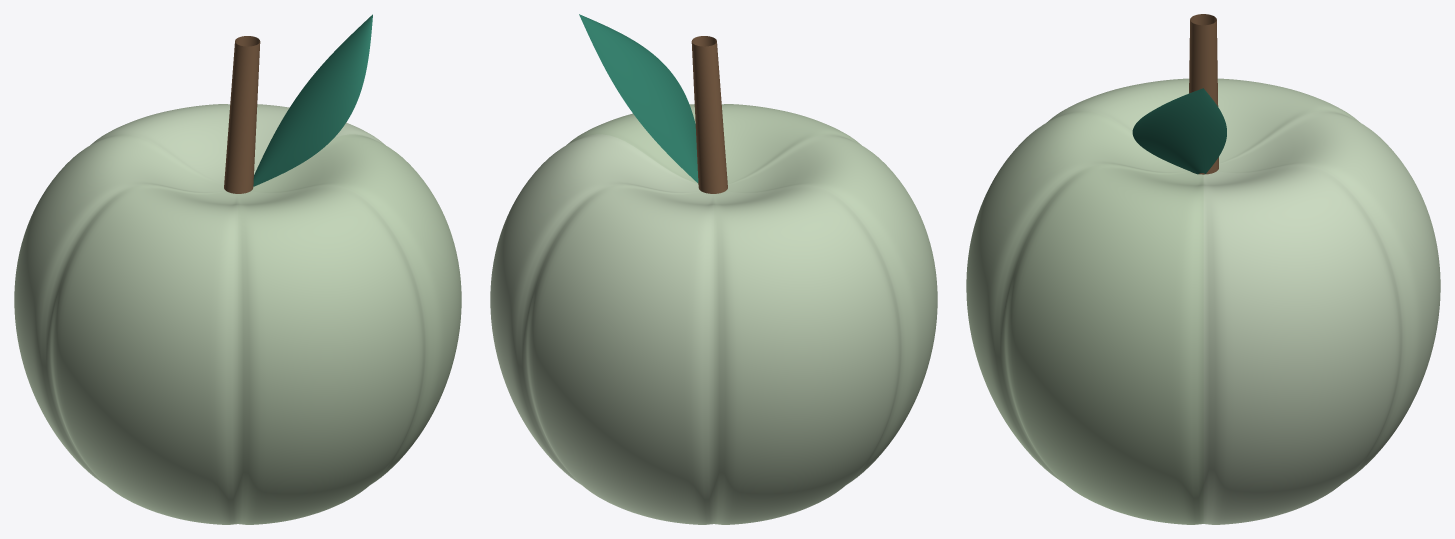
File: fabric_apple_6panels_v1.0.0.glb
3 renders of one model, left to right at view 1: azimuth 30°, elevation 25°; view 2: azimuth 150°, elevation 25°; view 3: azimuth 270°, elevation 25°, orthographic. The views are drawn at different scales.
Parts seen in each view (by area): view 1: Body_Panel_03, Body_Panel_02, Body_Panel_04, Body_Panel_01, Leaf, Body_Panel_05, Stem, Body_Panel_06; view 2: Body_Panel_04, Body_Panel_05, Body_Panel_03, Body_Panel_06, Leaf, Body_Panel_02, Stem, Body_Panel_01; view 3: Body_Panel_01, Body_Panel_06, Body_Panel_05, Body_Panel_02, Leaf, Body_Panel_04, Body_Panel_03, Stem.
Part boxes in pixels (x1=…): Body_Panel_03: x1=49, y1=184, x2=237, y2=524; Body_Panel_02: x1=238, y1=184, x2=426, y2=524; Body_Panel_04: x1=14, y1=134, x2=225, y2=484; Body_Panel_01: x1=251, y1=134, x2=461, y2=484; Leaf: x1=253, y1=14, x2=372, y2=186; Body_Panel_05: x1=91, y1=104, x2=230, y2=184; Stem: x1=224, y1=36, x2=260, y2=193; Body_Panel_06: x1=254, y1=104, x2=384, y2=174; Body_Panel_04: x1=714, y1=184, x2=902, y2=524; Body_Panel_05: x1=525, y1=184, x2=713, y2=524; Body_Panel_03: x1=726, y1=134, x2=937, y2=484; Body_Panel_06: x1=490, y1=134, x2=700, y2=484; Leaf: x1=579, y1=14, x2=698, y2=183; Body_Panel_02: x1=721, y1=104, x2=860, y2=184; Stem: x1=691, y1=36, x2=727, y2=193; Body_Panel_01: x1=567, y1=104, x2=697, y2=183; Body_Panel_01: x1=1003, y1=164, x2=1203, y2=524; Body_Panel_06: x1=1203, y1=164, x2=1403, y2=524; Body_Panel_05: x1=1217, y1=111, x2=1440, y2=481; Body_Panel_02: x1=966, y1=111, x2=1188, y2=481; Leaf: x1=1132, y1=88, x2=1226, y2=174; Body_Panel_04: x1=1217, y1=78, x2=1359, y2=163; Body_Panel_03: x1=1047, y1=78, x2=1189, y2=132; Stem: x1=1189, y1=14, x2=1218, y2=174.
Bounding box in the file's own units: 0.1196 × 0.1304 × 0.1204.
